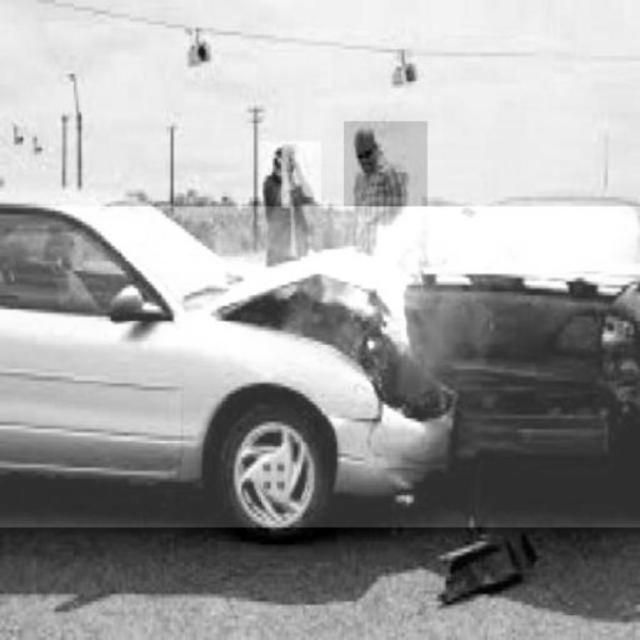accident: (0, 207, 640, 527)
person: (344, 121, 427, 249), (259, 142, 321, 266)
